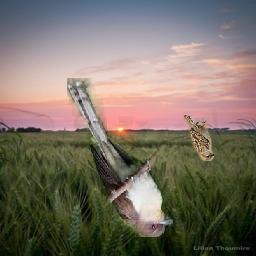Cuckoo: (67, 79, 173, 238)
Sparrow: (184, 115, 215, 161)
